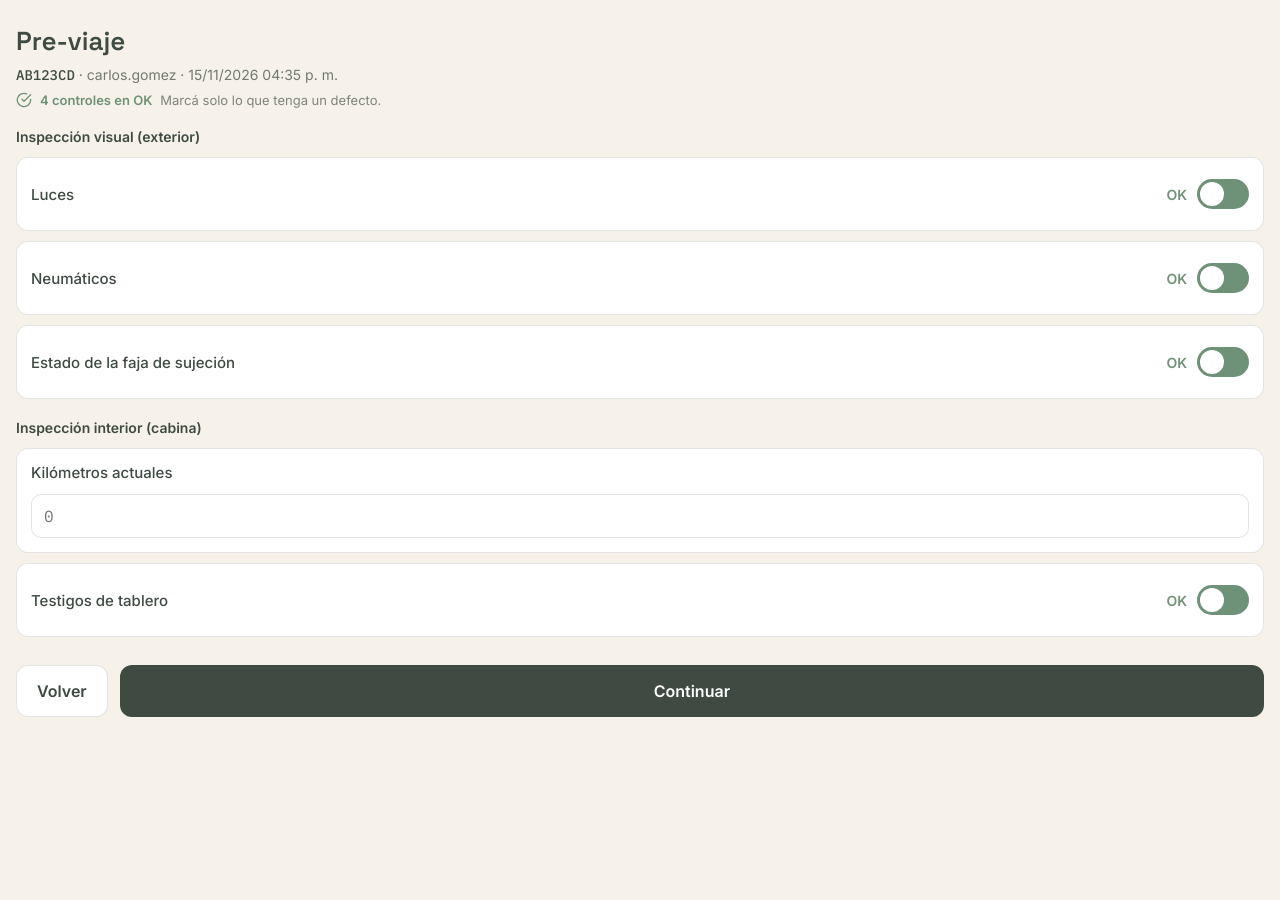
Test: InspectionFlow — pre-viaje › no avanza sin los kilómetros
Expected: the heading "Pre-viaje" is shown, 16,24 -> 126,58
Click the button "Continuar".
click(692, 691)  # box 120,665 -> 1264,717
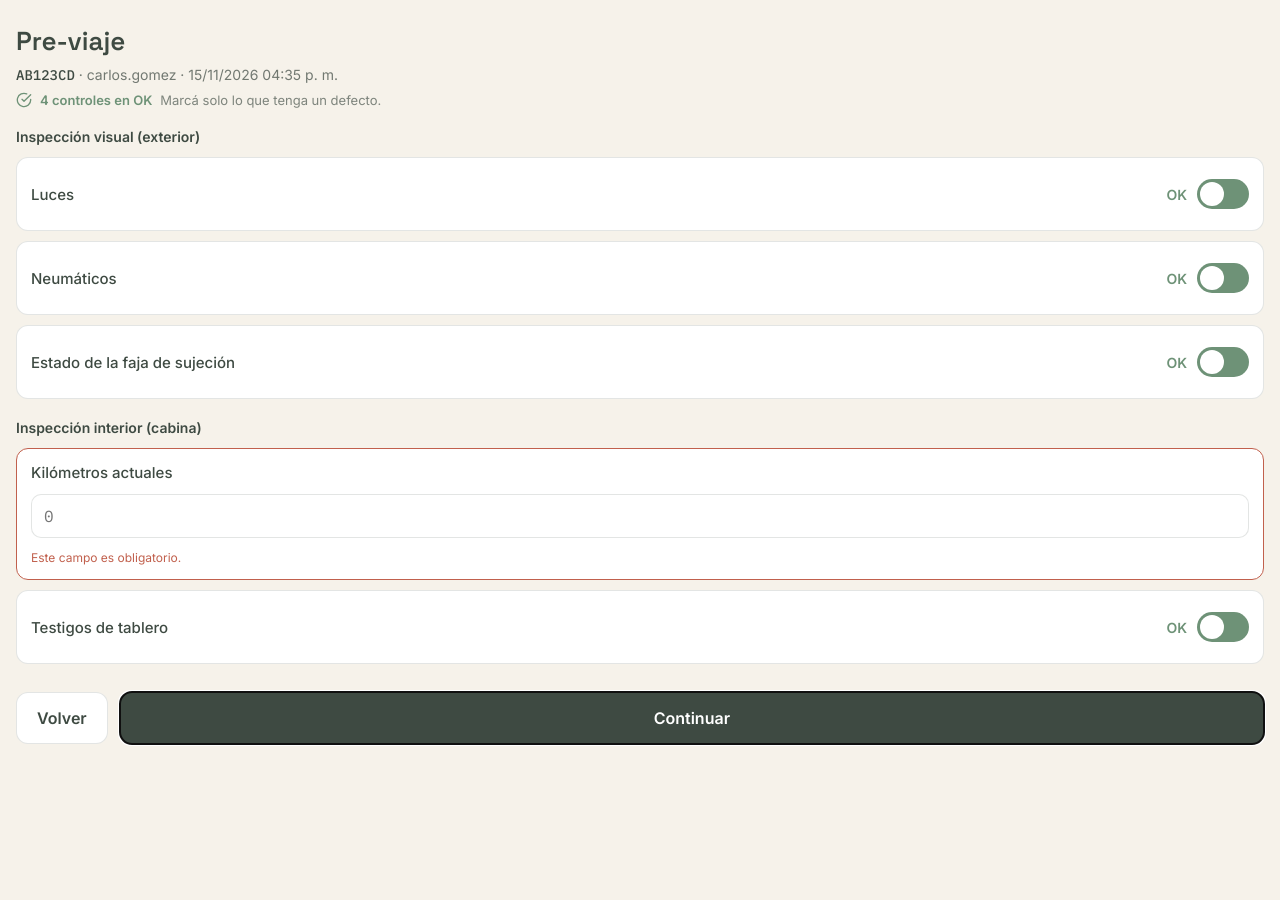
Expected: the text "Este campo es obligatorio." is shown, 31,550 -> 181,565
